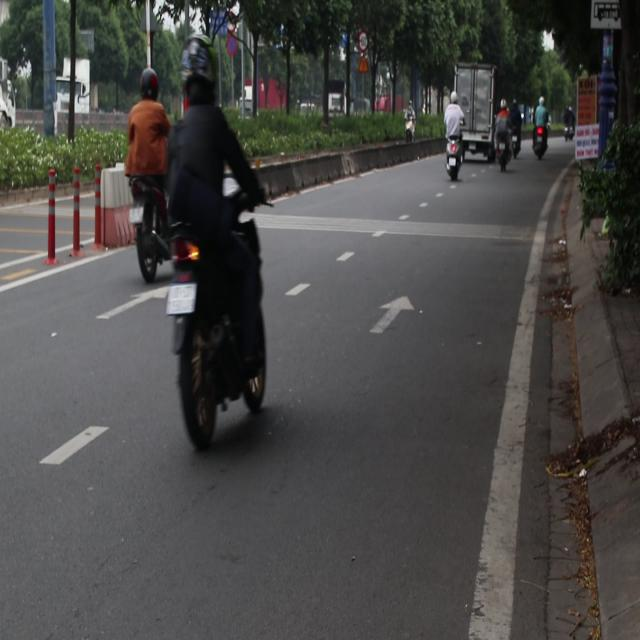motorbike: (169, 199, 274, 452), (120, 156, 181, 287), (437, 134, 476, 197), (394, 104, 427, 169), (491, 125, 512, 186), (506, 119, 524, 162), (556, 110, 571, 140), (536, 120, 544, 160)
truck: (53, 49, 119, 130), (454, 65, 499, 153)
